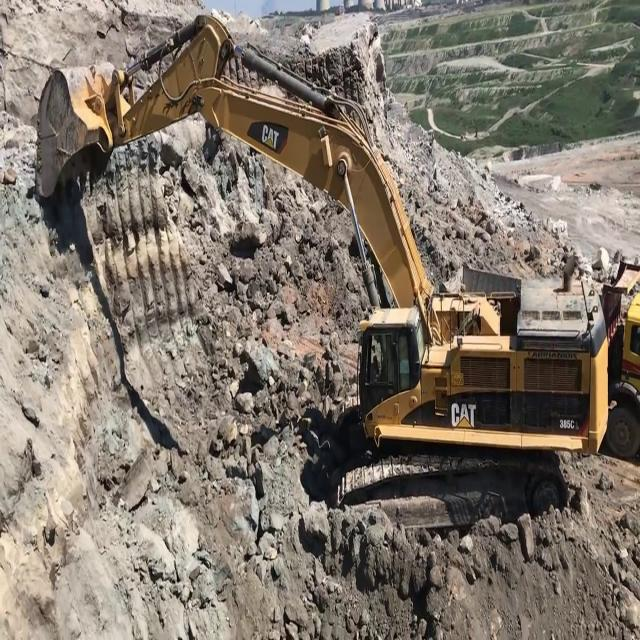excavator: (32, 13, 626, 532)
